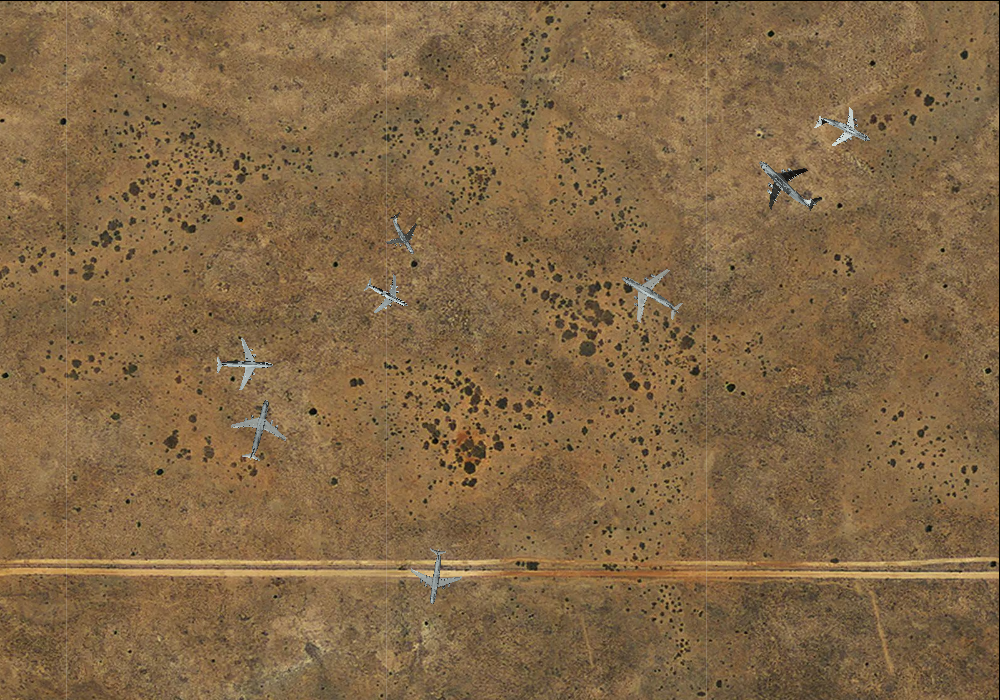plane: (739, 135, 837, 232), (605, 250, 695, 339), (222, 392, 295, 467), (806, 94, 880, 165), (404, 544, 466, 608), (355, 264, 417, 325), (374, 204, 432, 263), (214, 336, 273, 393)
